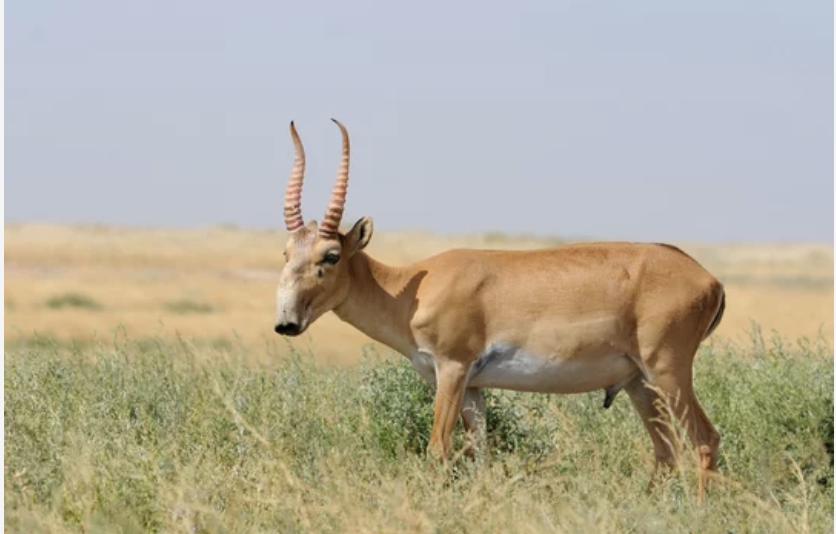saiga: (275, 110, 734, 510)
